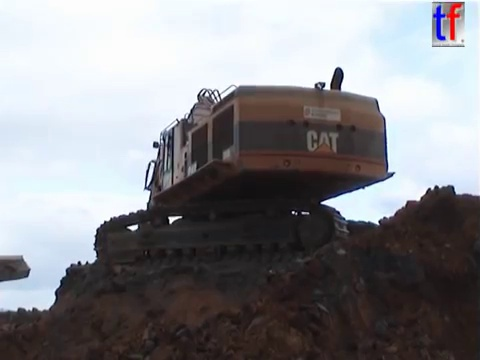excavator: (91, 62, 401, 276)
truck: (1, 253, 33, 285)
